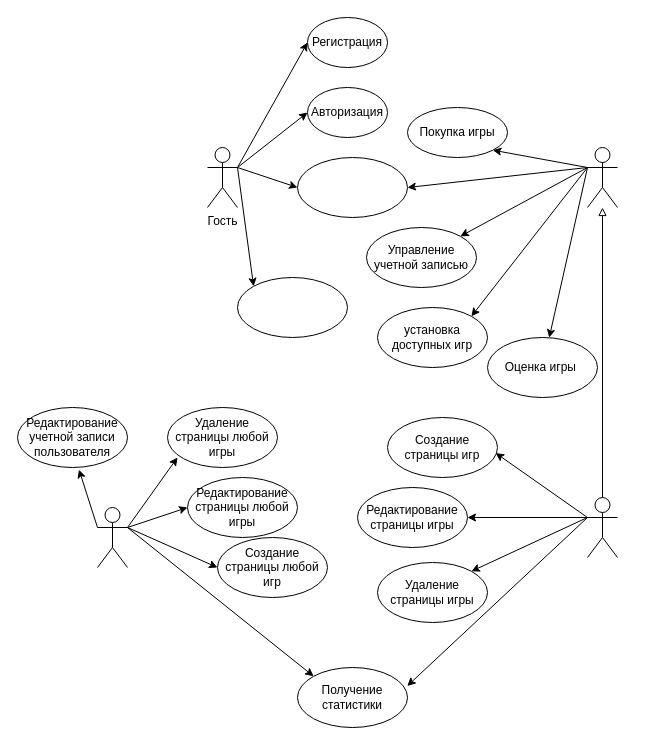
The diagram is 662 pixels wide and 745 high, and some of its shapes have lost their labels. The shapes that lost their labels are listed below. From the top down, each one's centre as x and y in pixels, then its label:
At point 352,187: "Фильтрация и сортировки игр".
At point 602,177: "Пользоватлель".
At point 292,307: "Скачать бесплатные игры".
At point 112,537: "Администратор".
At point 602,527: "Разработчик".
